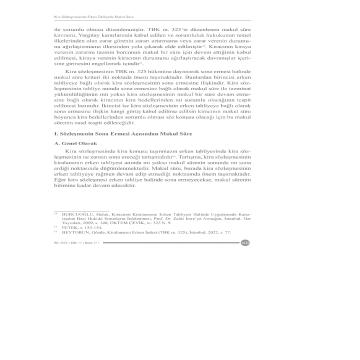footer: (59, 211, 252, 238)
header: (52, 15, 139, 19)
